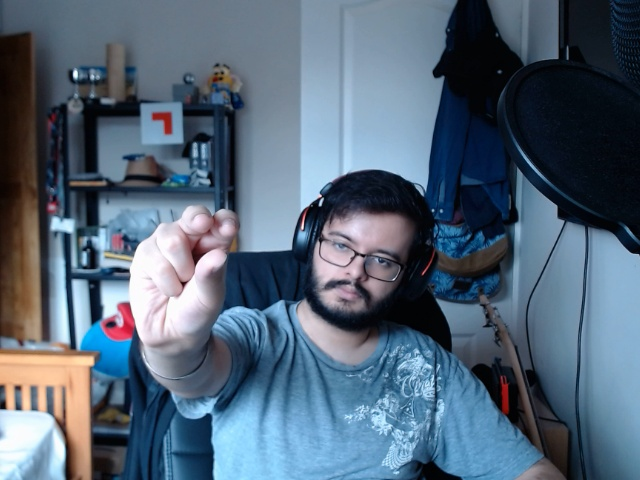No: (96, 197, 248, 358)
